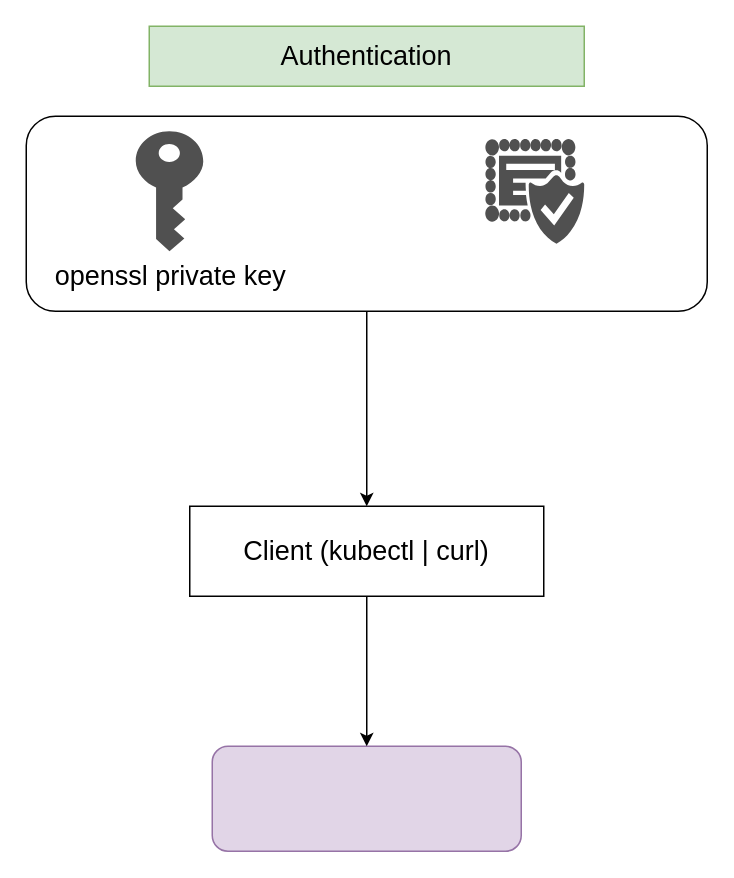
Some shapes in this 734 by 878 pixel diagram are drawn without their labels. The shapes that lost their labels are listed below. From the top down, each one's centre as x and y in pixels, then its label:
At point 534,190: "parsed .crt from csr".
At point 366,798: "kube-apiserver".
